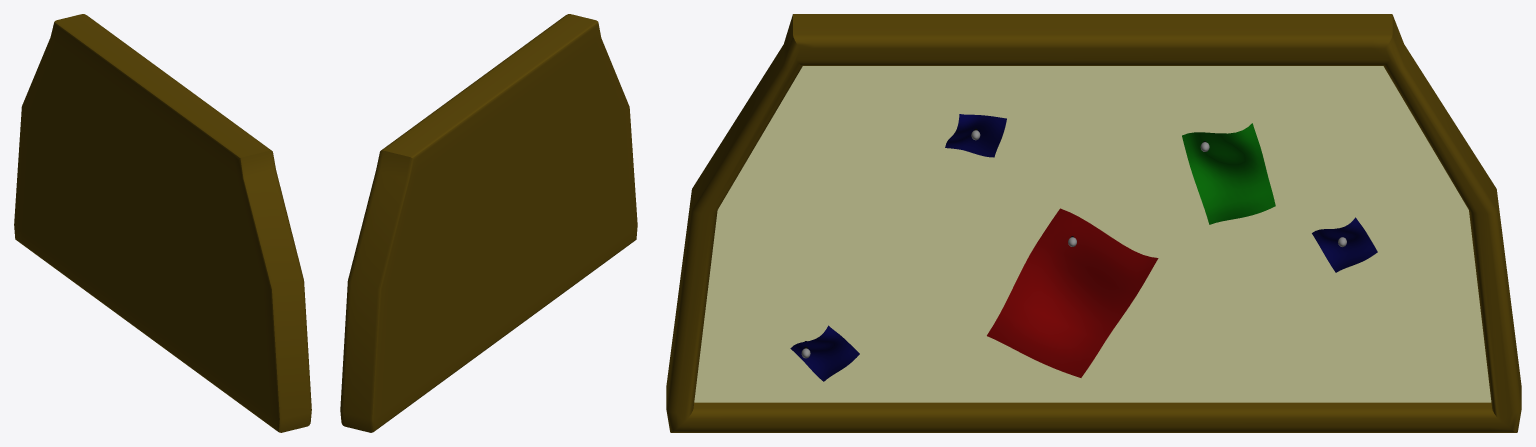
The model's file is tableauDroit.fbx.
3 renders of one model, left to right at view 1: azimuth 30°, elevation 25°; view 2: azimuth 150°, elevation 25°; view 3: azimuth 270°, elevation 25°, orthographic. The views are drawn at different scales.
Parts seen in each view (by area): view 1: tableauDroit1; view 2: tableauDroit1; view 3: tableauDroit1.
Part boxes in pixels (<box>): tableauDroit1: <box>14,14,311,432</box>; tableauDroit1: <box>340,14,637,432</box>; tableauDroit1: <box>666,14,1521,432</box>.
Size of the model in its own units: 0.3002 by 1.73 by 3.39.
